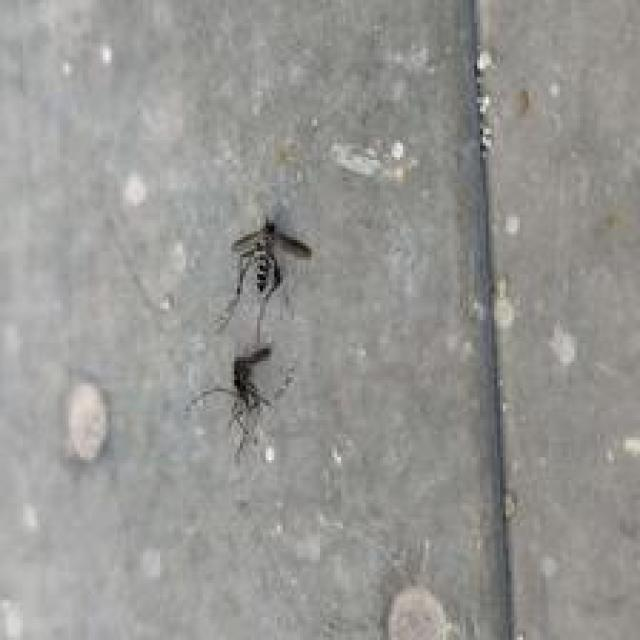Aedes albopictus: (213, 216, 313, 341)
